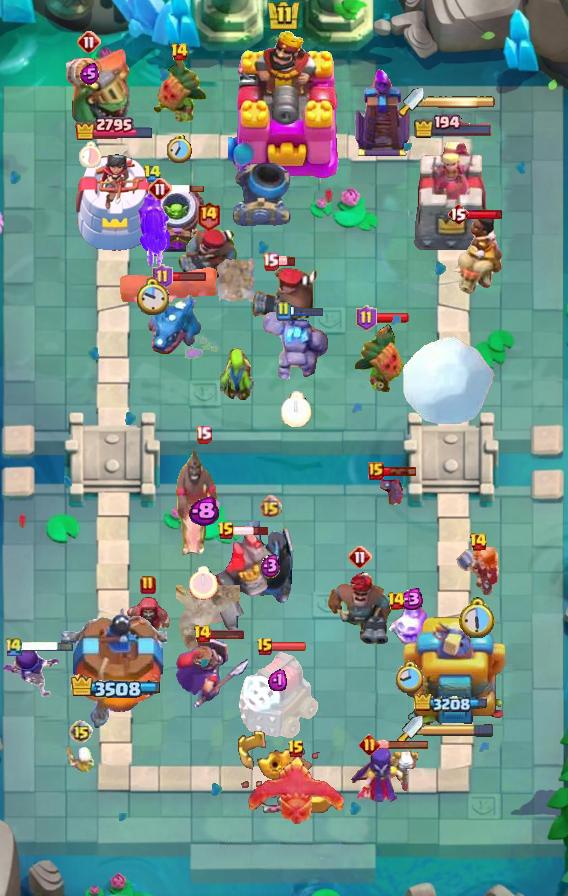bar: (21, 640, 75, 653), (378, 739, 430, 750), (233, 525, 270, 537), (209, 628, 245, 640), (374, 312, 410, 324), (170, 271, 207, 282), (467, 209, 504, 220), (271, 641, 307, 652), (288, 306, 324, 317), (382, 466, 417, 477), (169, 184, 205, 194), (277, 256, 296, 267)
bar-level: (196, 200, 221, 231), (69, 720, 93, 744), (348, 545, 372, 569), (148, 177, 172, 201), (77, 30, 101, 54), (356, 305, 377, 331), (152, 264, 173, 290), (259, 495, 282, 518), (447, 202, 469, 226), (359, 734, 380, 755), (4, 636, 24, 657), (193, 624, 212, 644), (387, 591, 406, 611), (469, 532, 488, 552), (170, 42, 189, 62), (143, 164, 162, 183), (287, 739, 305, 759), (256, 637, 274, 657), (217, 521, 235, 541), (195, 425, 212, 444), (262, 252, 279, 271), (140, 575, 156, 595), (275, 301, 291, 321), (368, 462, 384, 480)
bat: (376, 471, 404, 505)
bomber-evolution: (134, 175, 170, 269), (0, 644, 60, 700)
clock: (459, 597, 497, 639), (135, 277, 169, 317), (281, 391, 312, 427), (396, 660, 425, 695), (189, 566, 218, 600), (167, 135, 192, 163), (78, 141, 101, 168)
dagger-duchess-tower: (401, 611, 505, 731), (412, 140, 494, 256)
dagger-duchess-tower-bar: (423, 723, 495, 737), (424, 95, 496, 109)
dart-goblin: (353, 322, 411, 398), (150, 55, 208, 125)
dirt: (176, 585, 240, 654), (215, 256, 259, 302)
electro-dragon: (147, 282, 203, 358)
elixir: (188, 496, 219, 527), (397, 588, 424, 610), (260, 553, 281, 578), (268, 668, 287, 691), (80, 63, 99, 85)
goblin: (220, 347, 258, 405)
golemite: (263, 309, 329, 381)
hunter: (325, 569, 395, 647), (250, 261, 320, 323), (176, 226, 240, 280)
ice-spirit-evolution: (389, 599, 431, 649)
king-tower: (228, 29, 340, 181)
mortar: (231, 162, 291, 226)
mortar-evolution: (144, 186, 208, 256)
queen-tower: (61, 603, 167, 731), (71, 145, 157, 256)
ram-rider: (447, 210, 503, 298)
skeleton: (63, 744, 99, 776)
the-log: (119, 264, 221, 304)
tower-bar: (68, 674, 160, 700), (74, 115, 155, 140), (413, 114, 494, 139), (414, 694, 493, 715)
valkyrie: (454, 547, 502, 597)
witch: (350, 744, 418, 806)
wizard: (124, 595, 172, 643)
